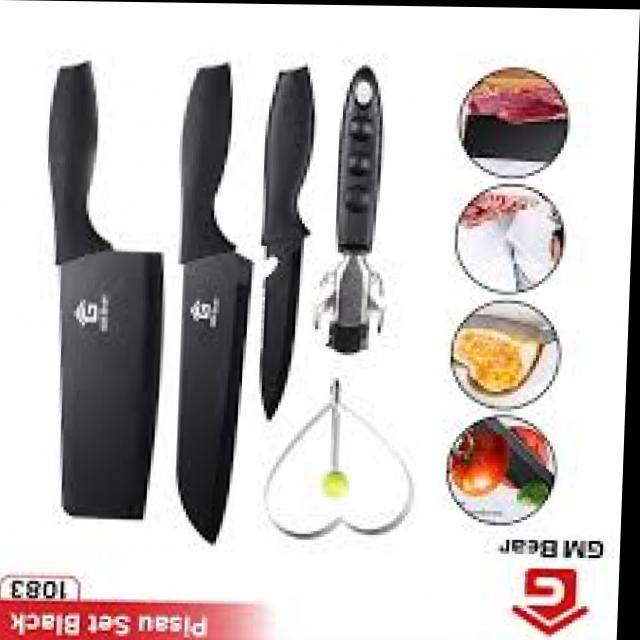knife: (48, 61, 166, 520), (176, 61, 256, 543), (259, 64, 317, 419)
